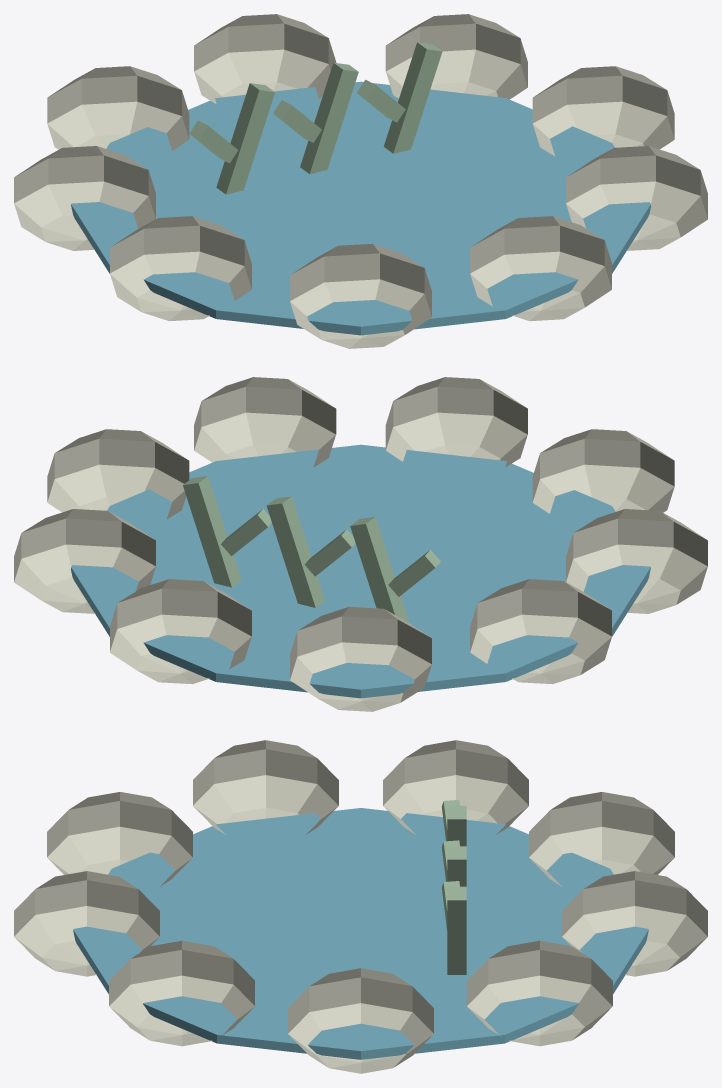
The model's file is tidal-coastal-rock-pool__259.glb.
3 views of the same model, one above another, from view 1: azimuth 30°, elevation 25°; view 2: azimuth 150°, elevation 25°; view 3: azimuth 270°, elevation 25° (orthographic).
Visible parts, largest first — view 1: tidal-observatory-tidal-rock-pool; view 2: tidal-observatory-tidal-rock-pool; view 3: tidal-observatory-tidal-rock-pool.
Boxes of the visible parts, x1=… form: tidal-observatory-tidal-rock-pool: x1=14, y1=14, x2=707, y2=348; tidal-observatory-tidal-rock-pool: x1=14, y1=377, x2=707, y2=711; tidal-observatory-tidal-rock-pool: x1=14, y1=740, x2=707, y2=1073.
Bounding box in the file's own units: 2.14 × 0.3843 × 2.17.
